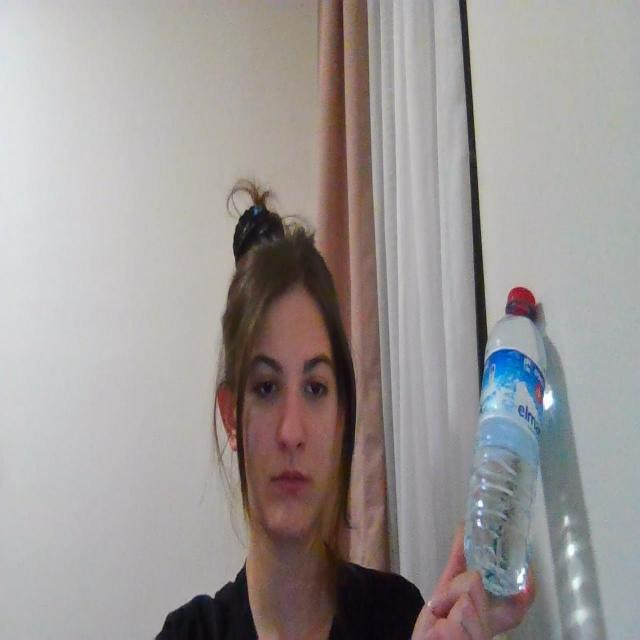bottle: (460, 258, 543, 598)
